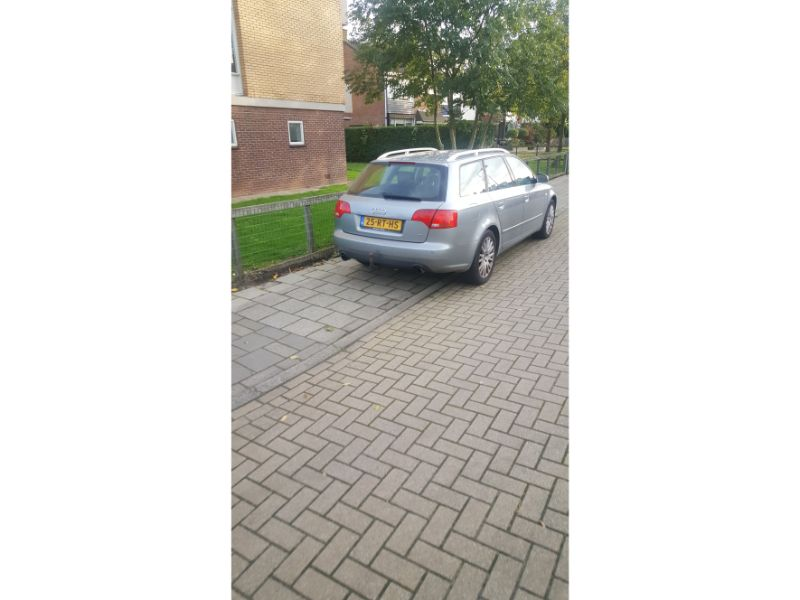kenteken: (358, 216, 405, 234)
